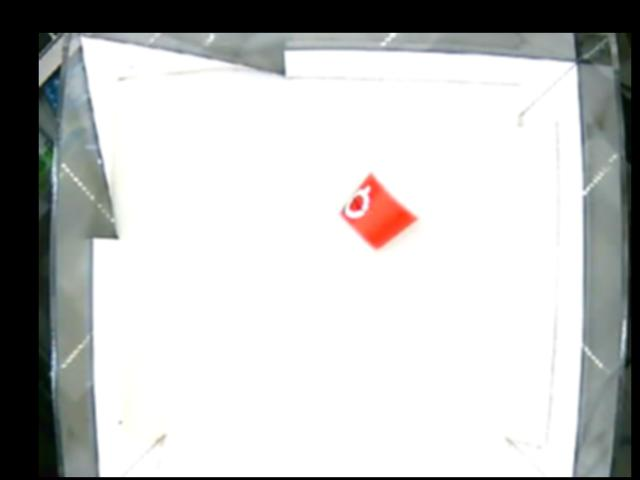Cup: (329, 164, 427, 259)
